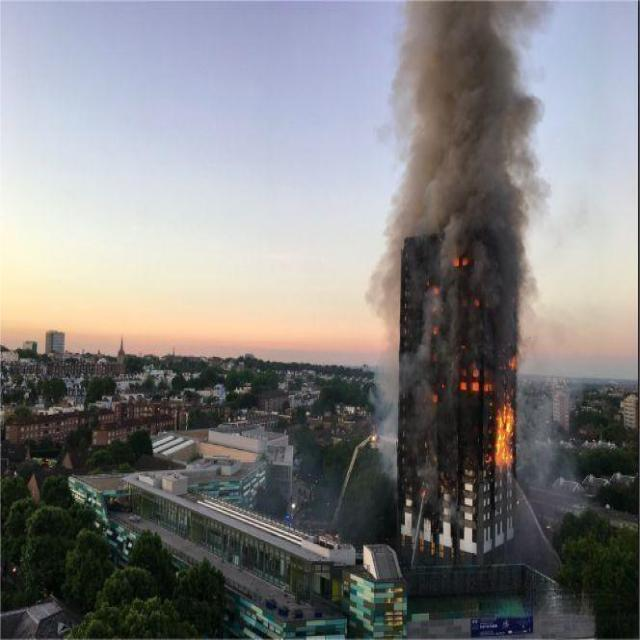Fire: (492, 402, 517, 467)
Smoke: (376, 0, 552, 235)
